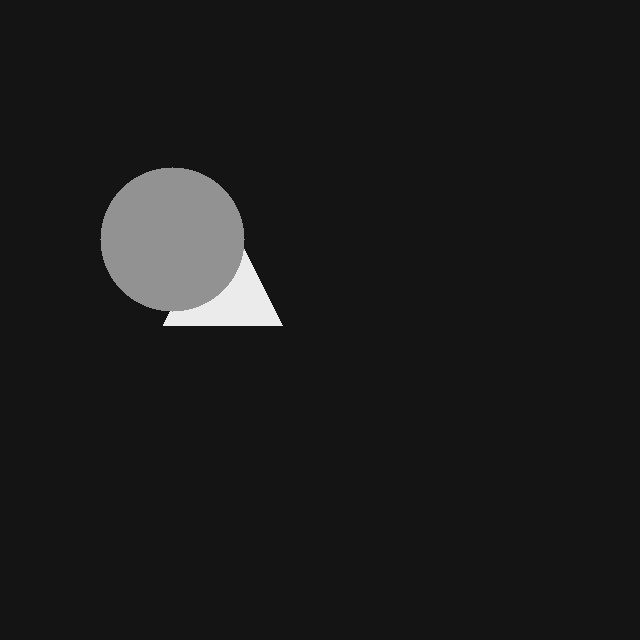circle: (100, 167, 244, 311)
triangle: (163, 206, 282, 325)
